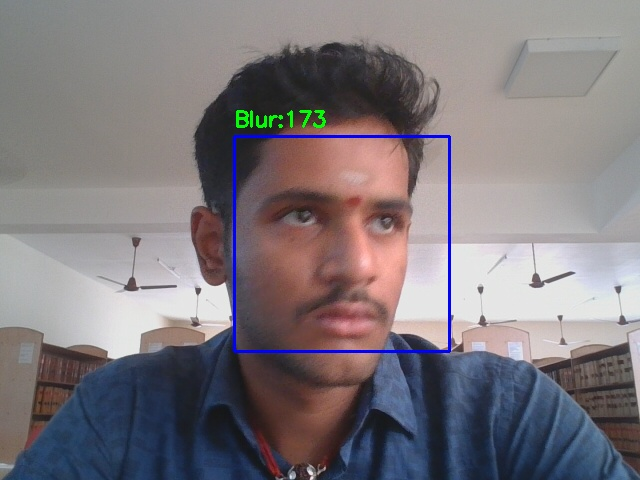real: (234, 136, 449, 351)
